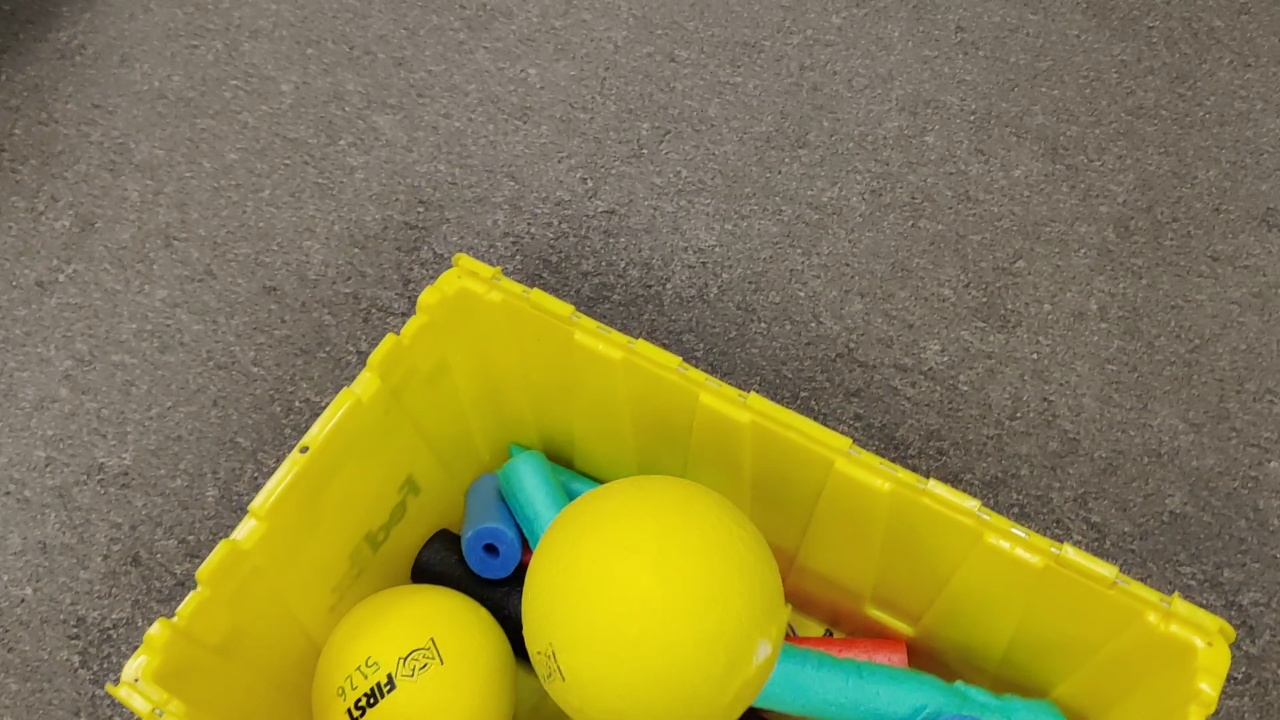Ball: (521, 475, 782, 719), (314, 585, 517, 720)
